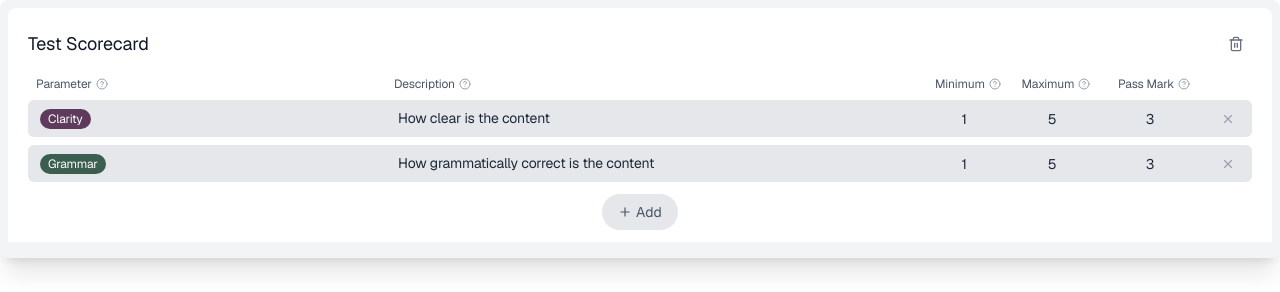
Test case: Scorecard Component › should handle transition detection properly
// First trigger a change to make save button appear
Replace the text in the field showing "Test Scorecard" with "Changed Name" at (616, 44), box [28, 30, 1204, 58]
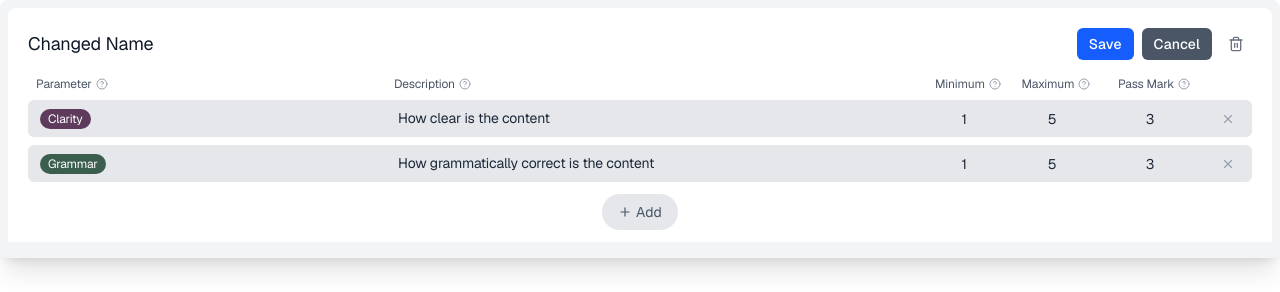
Expected: the button "Save" is shown, [1077, 28, 1134, 60]
